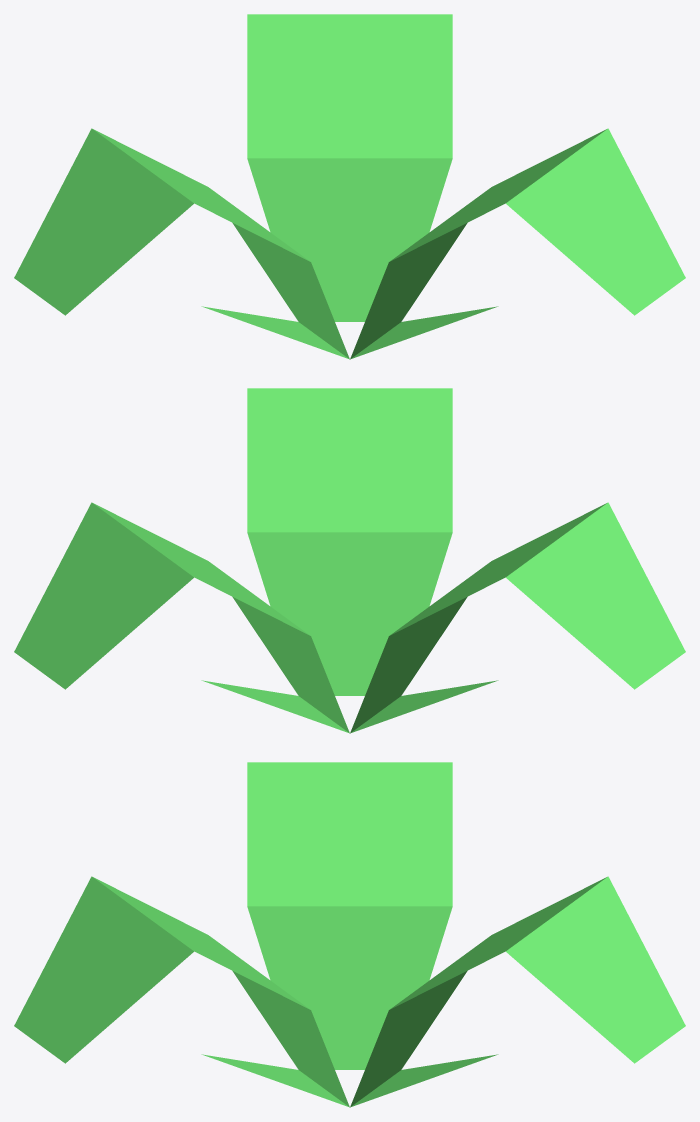
Rendered from n_plant_bushLargeTriangle.glb.
The picture shows the model from 3 angles, top to bottom: view 1: azimuth 30°, elevation 25°; view 2: azimuth 150°, elevation 25°; view 3: azimuth 270°, elevation 25°; orthographic projection.
Visible parts, largest first — view 1: plant_bushLargeTriangle; view 2: plant_bushLargeTriangle; view 3: plant_bushLargeTriangle.
Part boxes in pixels (<box>): plant_bushLargeTriangle: <box>14,14,685,359</box>; plant_bushLargeTriangle: <box>14,388,685,733</box>; plant_bushLargeTriangle: <box>14,762,685,1107</box>.
Size of the model in its own units: 2.89 by 1.2 by 3.34.
